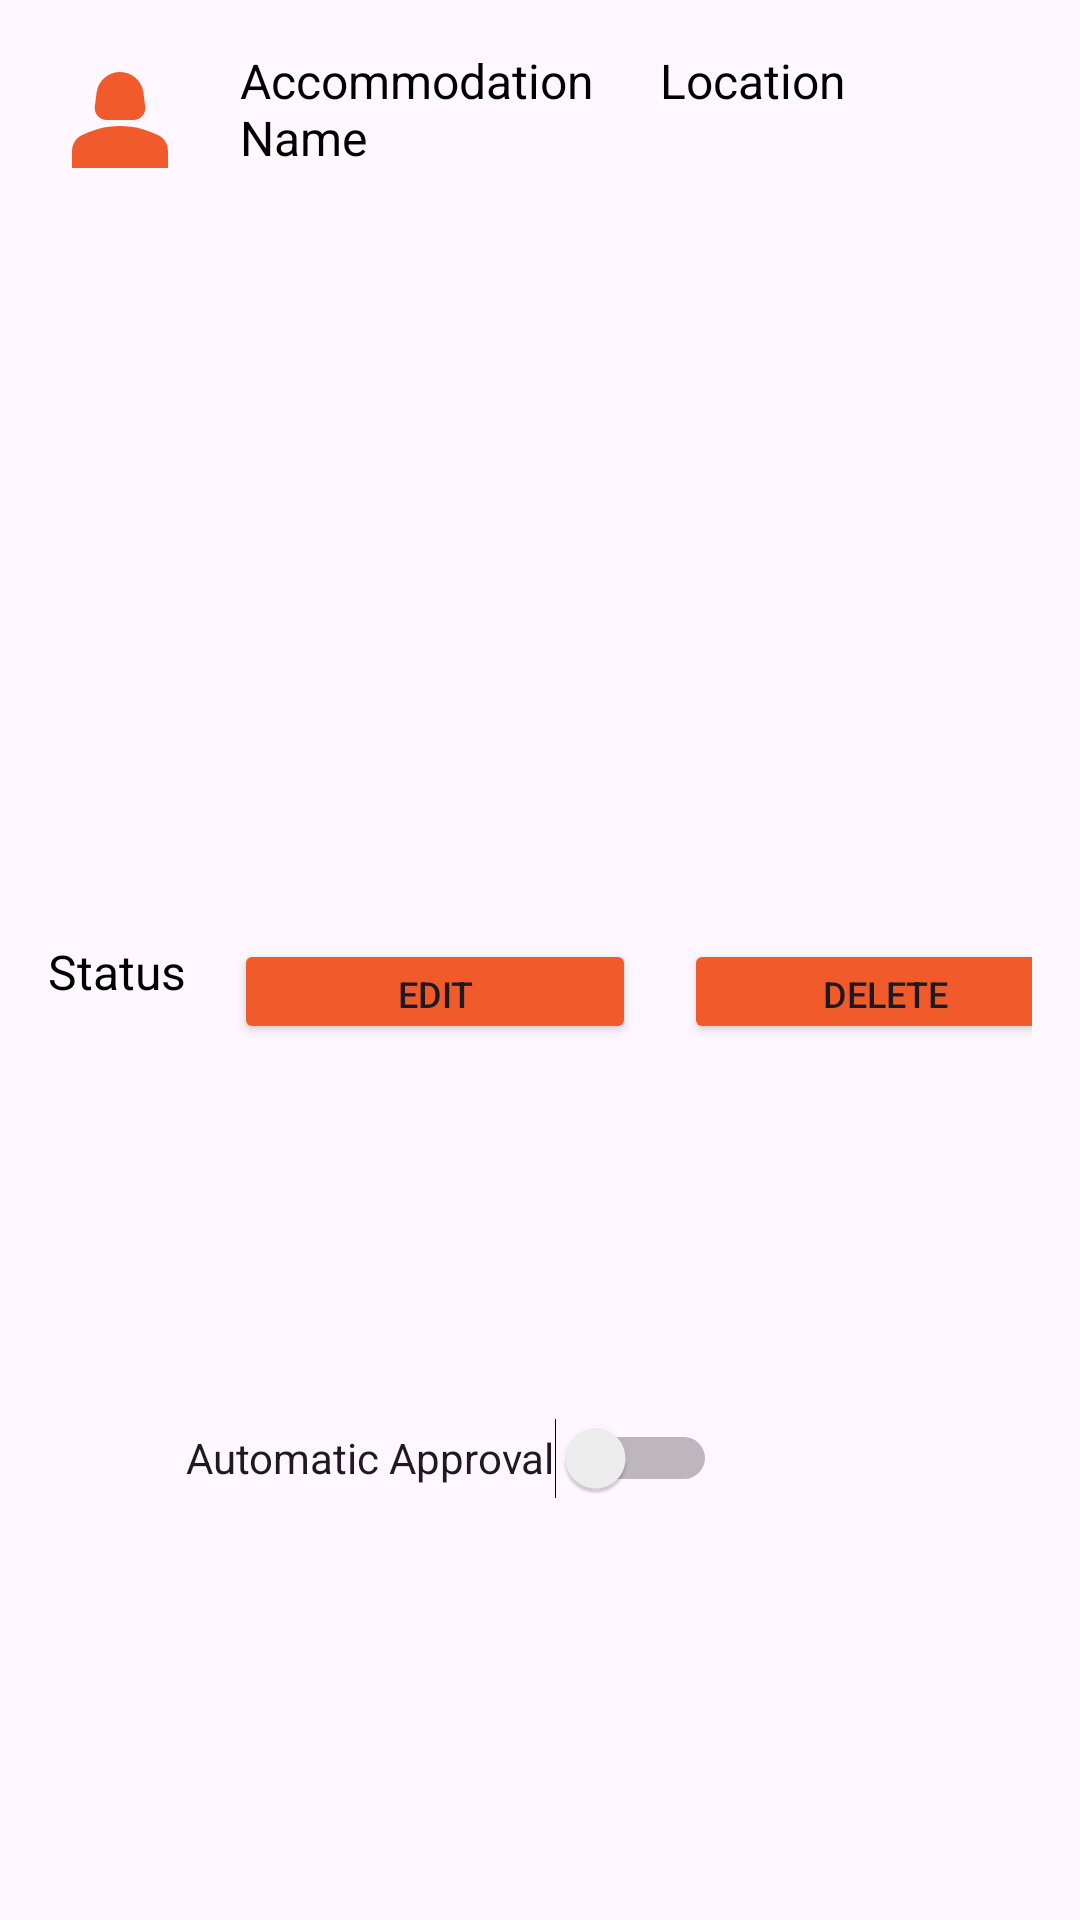

Named icons in this screenshot (1080x1920) and their centers, (x,y):
person: (120,120)
